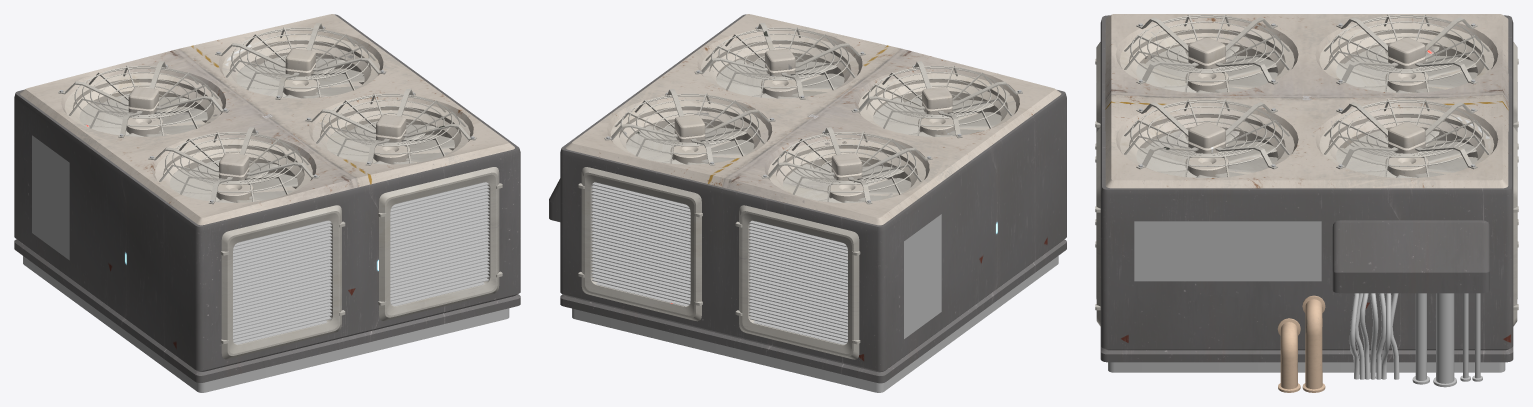
The model's file is KB3D_CBP_ACunit_D.fbx.
The picture shows the model from 3 angles, left to right: view 1: azimuth 30°, elevation 25°; view 2: azimuth 150°, elevation 25°; view 3: azimuth 270°, elevation 25°; orthographic projection. The views are drawn at different scales.
Parts seen in each view (by area): view 1: KB3D_CBP_ACunit_D_Main; view 2: KB3D_CBP_ACunit_D_Main; view 3: KB3D_CBP_ACunit_D_Main.
Part boxes in pixels (x1,y1,x2,y2): KB3D_CBP_ACunit_D_Main: (14,14,520,392); KB3D_CBP_ACunit_D_Main: (549,14,1066,392); KB3D_CBP_ACunit_D_Main: (1095,14,1518,392).
Size of the model in its own units: 356 by 178 by 332.
